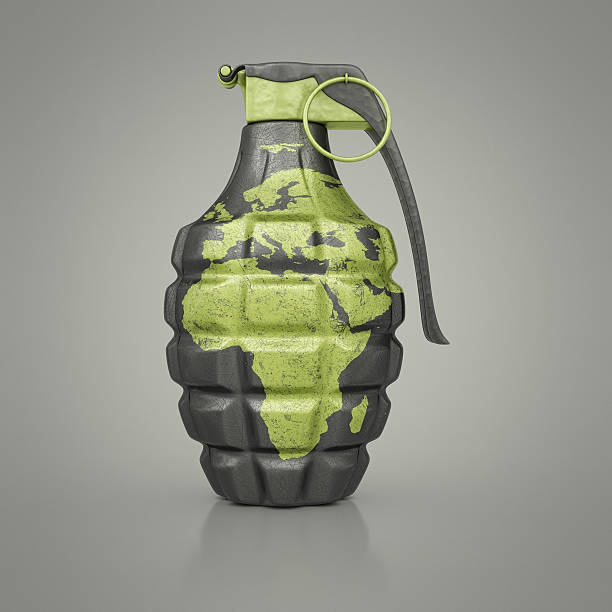e1: (162, 64, 452, 510)
